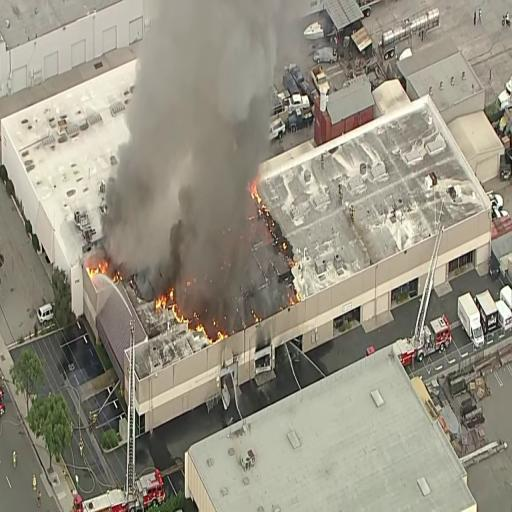smoke: (148, 0, 260, 233)
